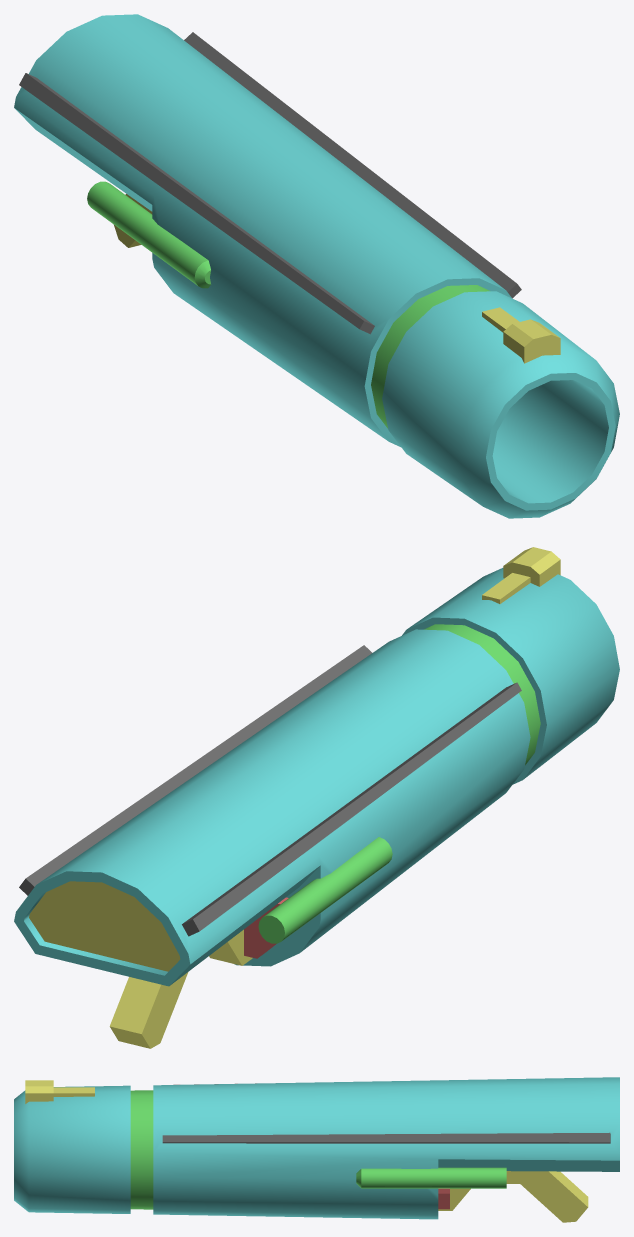
Rendered from RocketLauncherPainter.fbx.
3 views of the same model, one above another, from view 1: azimuth 30°, elevation 25°; view 2: azimuth 150°, elevation 25°; view 3: azimuth 270°, elevation 25° (orthographic). The views are drawn at different scales.
Visible parts, largest first — view 1: Proyectile_RocketLauncher; view 2: Proyectile_RocketLauncher; view 3: Proyectile_RocketLauncher.
Part boxes in pixels (x1,y1,x2,y2): Proyectile_RocketLauncher: (14,14,619,518); Proyectile_RocketLauncher: (14,547,619,1048); Proyectile_RocketLauncher: (14,1077,619,1222).
Size of the model in its own units: 0.3669 by 0.3518 by 1.44.
